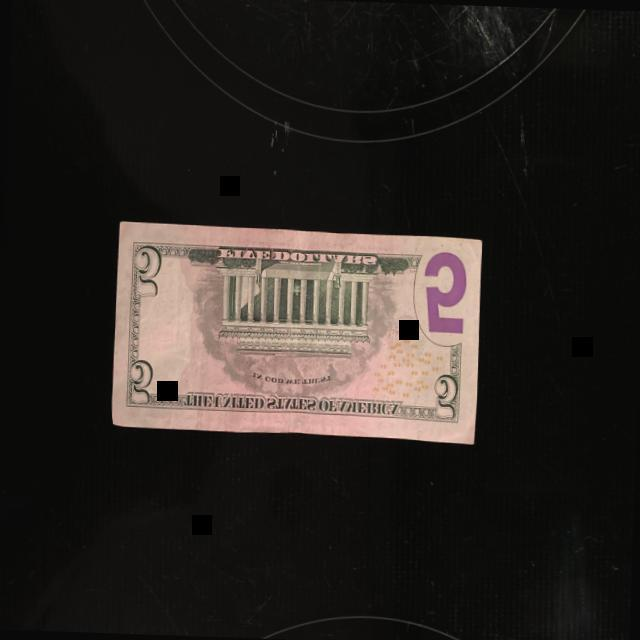five: (110, 221, 482, 444)
